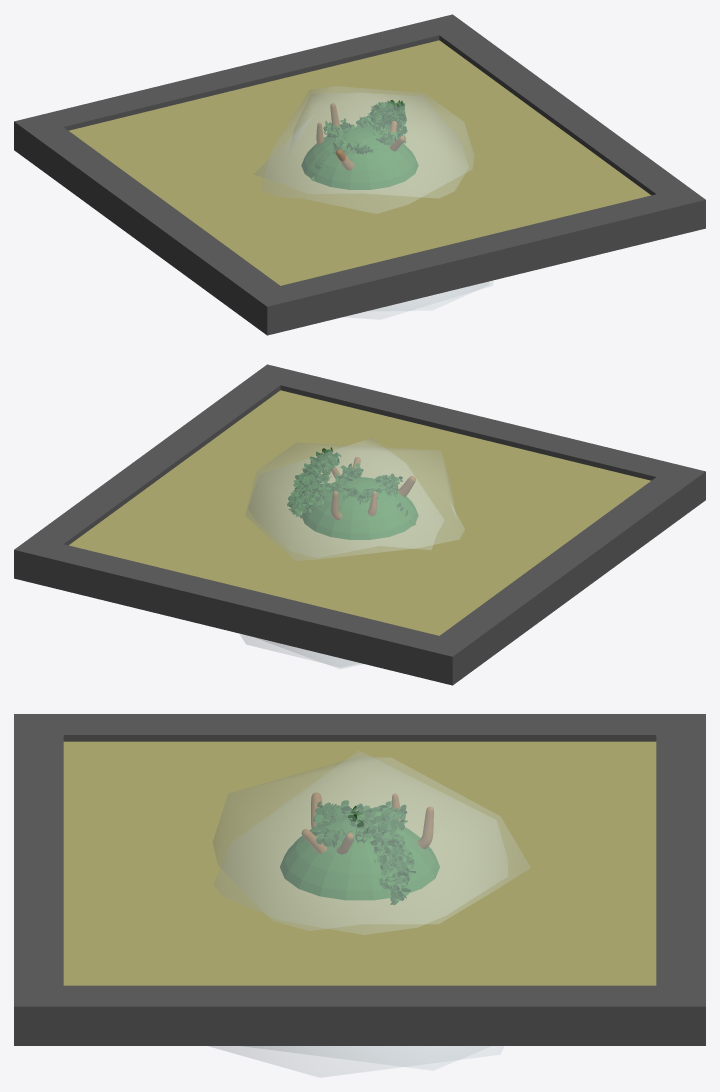
The model's file is sandy-r008-e006.glb.
3 renders of one model, top to bottom at view 1: azimuth 30°, elevation 25°; view 2: azimuth 150°, elevation 25°; view 3: azimuth 270°, elevation 25°, orthographic. The views are drawn at different scales.
Visible parts, largest first — view 1: pasir_15, kaca_44, daun pohon_51, daun_22, batang pohon_43; view 2: pasir_15, kaca_44, daun pohon_51, daun_22, batang pohon_43; view 3: pasir_15, kaca_44, daun pohon_51, daun_22, batang pohon_43.
Part boxes in pixels (box(x1,y1,x2,y2)): pasir_15: box(14, 14, 705, 335); kaca_44: box(254, 86, 493, 319); daun pohon_51: box(301, 127, 418, 189); daun_22: box(311, 100, 407, 181); batang pohon_43: box(316, 103, 404, 170); pasir_15: box(14, 364, 705, 685); kaca_44: box(240, 438, 464, 668); daun pohon_51: box(302, 477, 418, 539); daun_22: box(287, 447, 415, 525); batang pohon_43: box(330, 457, 415, 520); pasir_15: box(14, 714, 705, 1045); kaca_44: box(209, 751, 530, 1077); daun pohon_51: box(280, 815, 439, 900); daun_22: box(312, 800, 417, 904); batang pohon_43: box(301, 792, 433, 854).
Bounding box in the file's own units: 847775 × 308478 × 847775.
